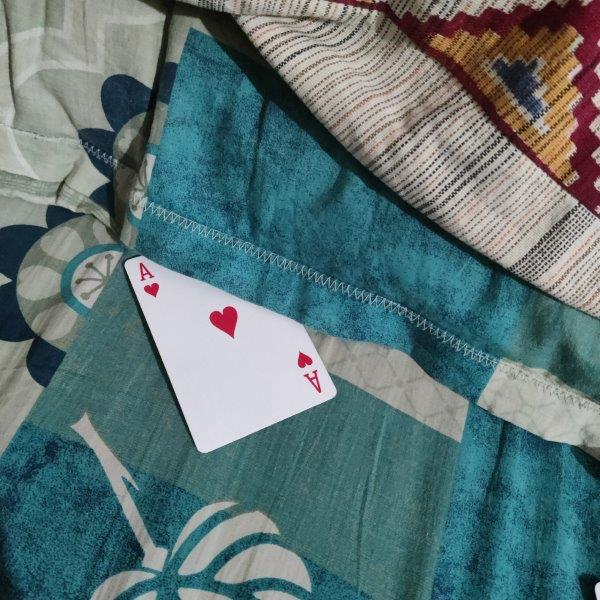Ace of Hearts: (123, 254, 339, 455)
